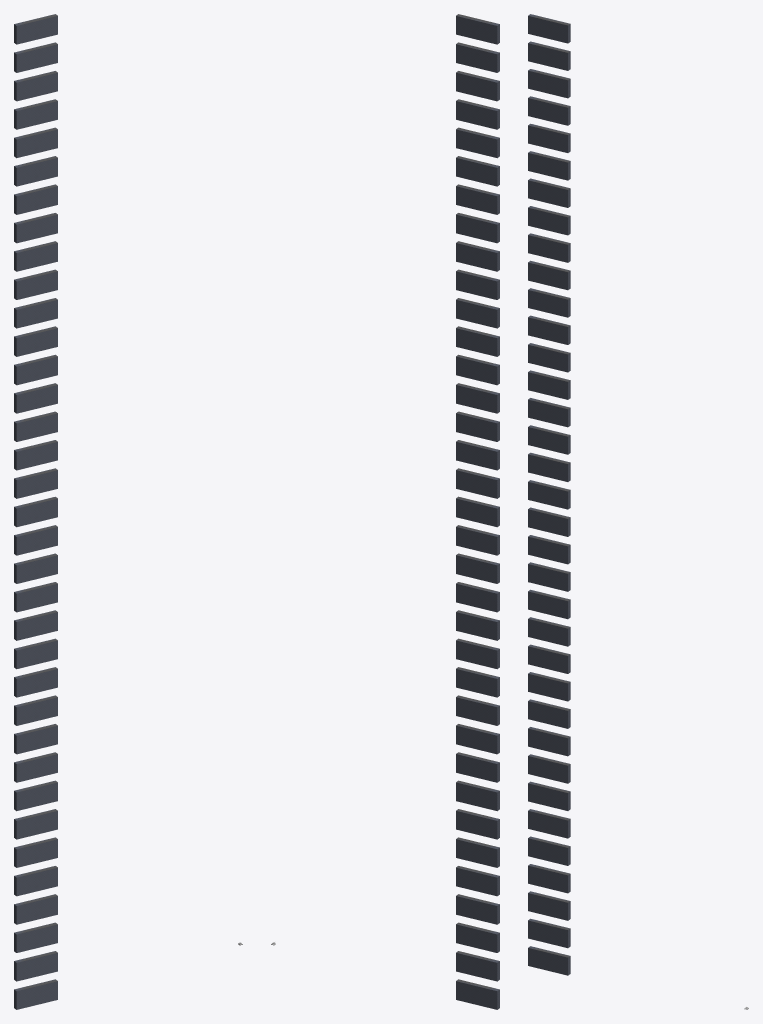
The model's file is Tank.fbx.
The picture shows the model from 3 angles, left to right: view 1: azimuth 30°, elevation 25°; view 2: azimuth 150°, elevation 25°; view 3: azimuth 330°, elevation 25°; orthographic projection. The views are drawn at different scales.
Parts seen in each view (by area): view 1: bigtracksR; view 2: bigtracksR; view 3: bigtracksR.
Boxes of the visible parts, box(x1,y1,x2,y2) form: bigtracksR: box(14, 14, 57, 1009); bigtracksR: box(456, 14, 499, 1009); bigtracksR: box(528, 14, 570, 975).
Size of the model in its own units: 997 by 4140 by 22.24.
